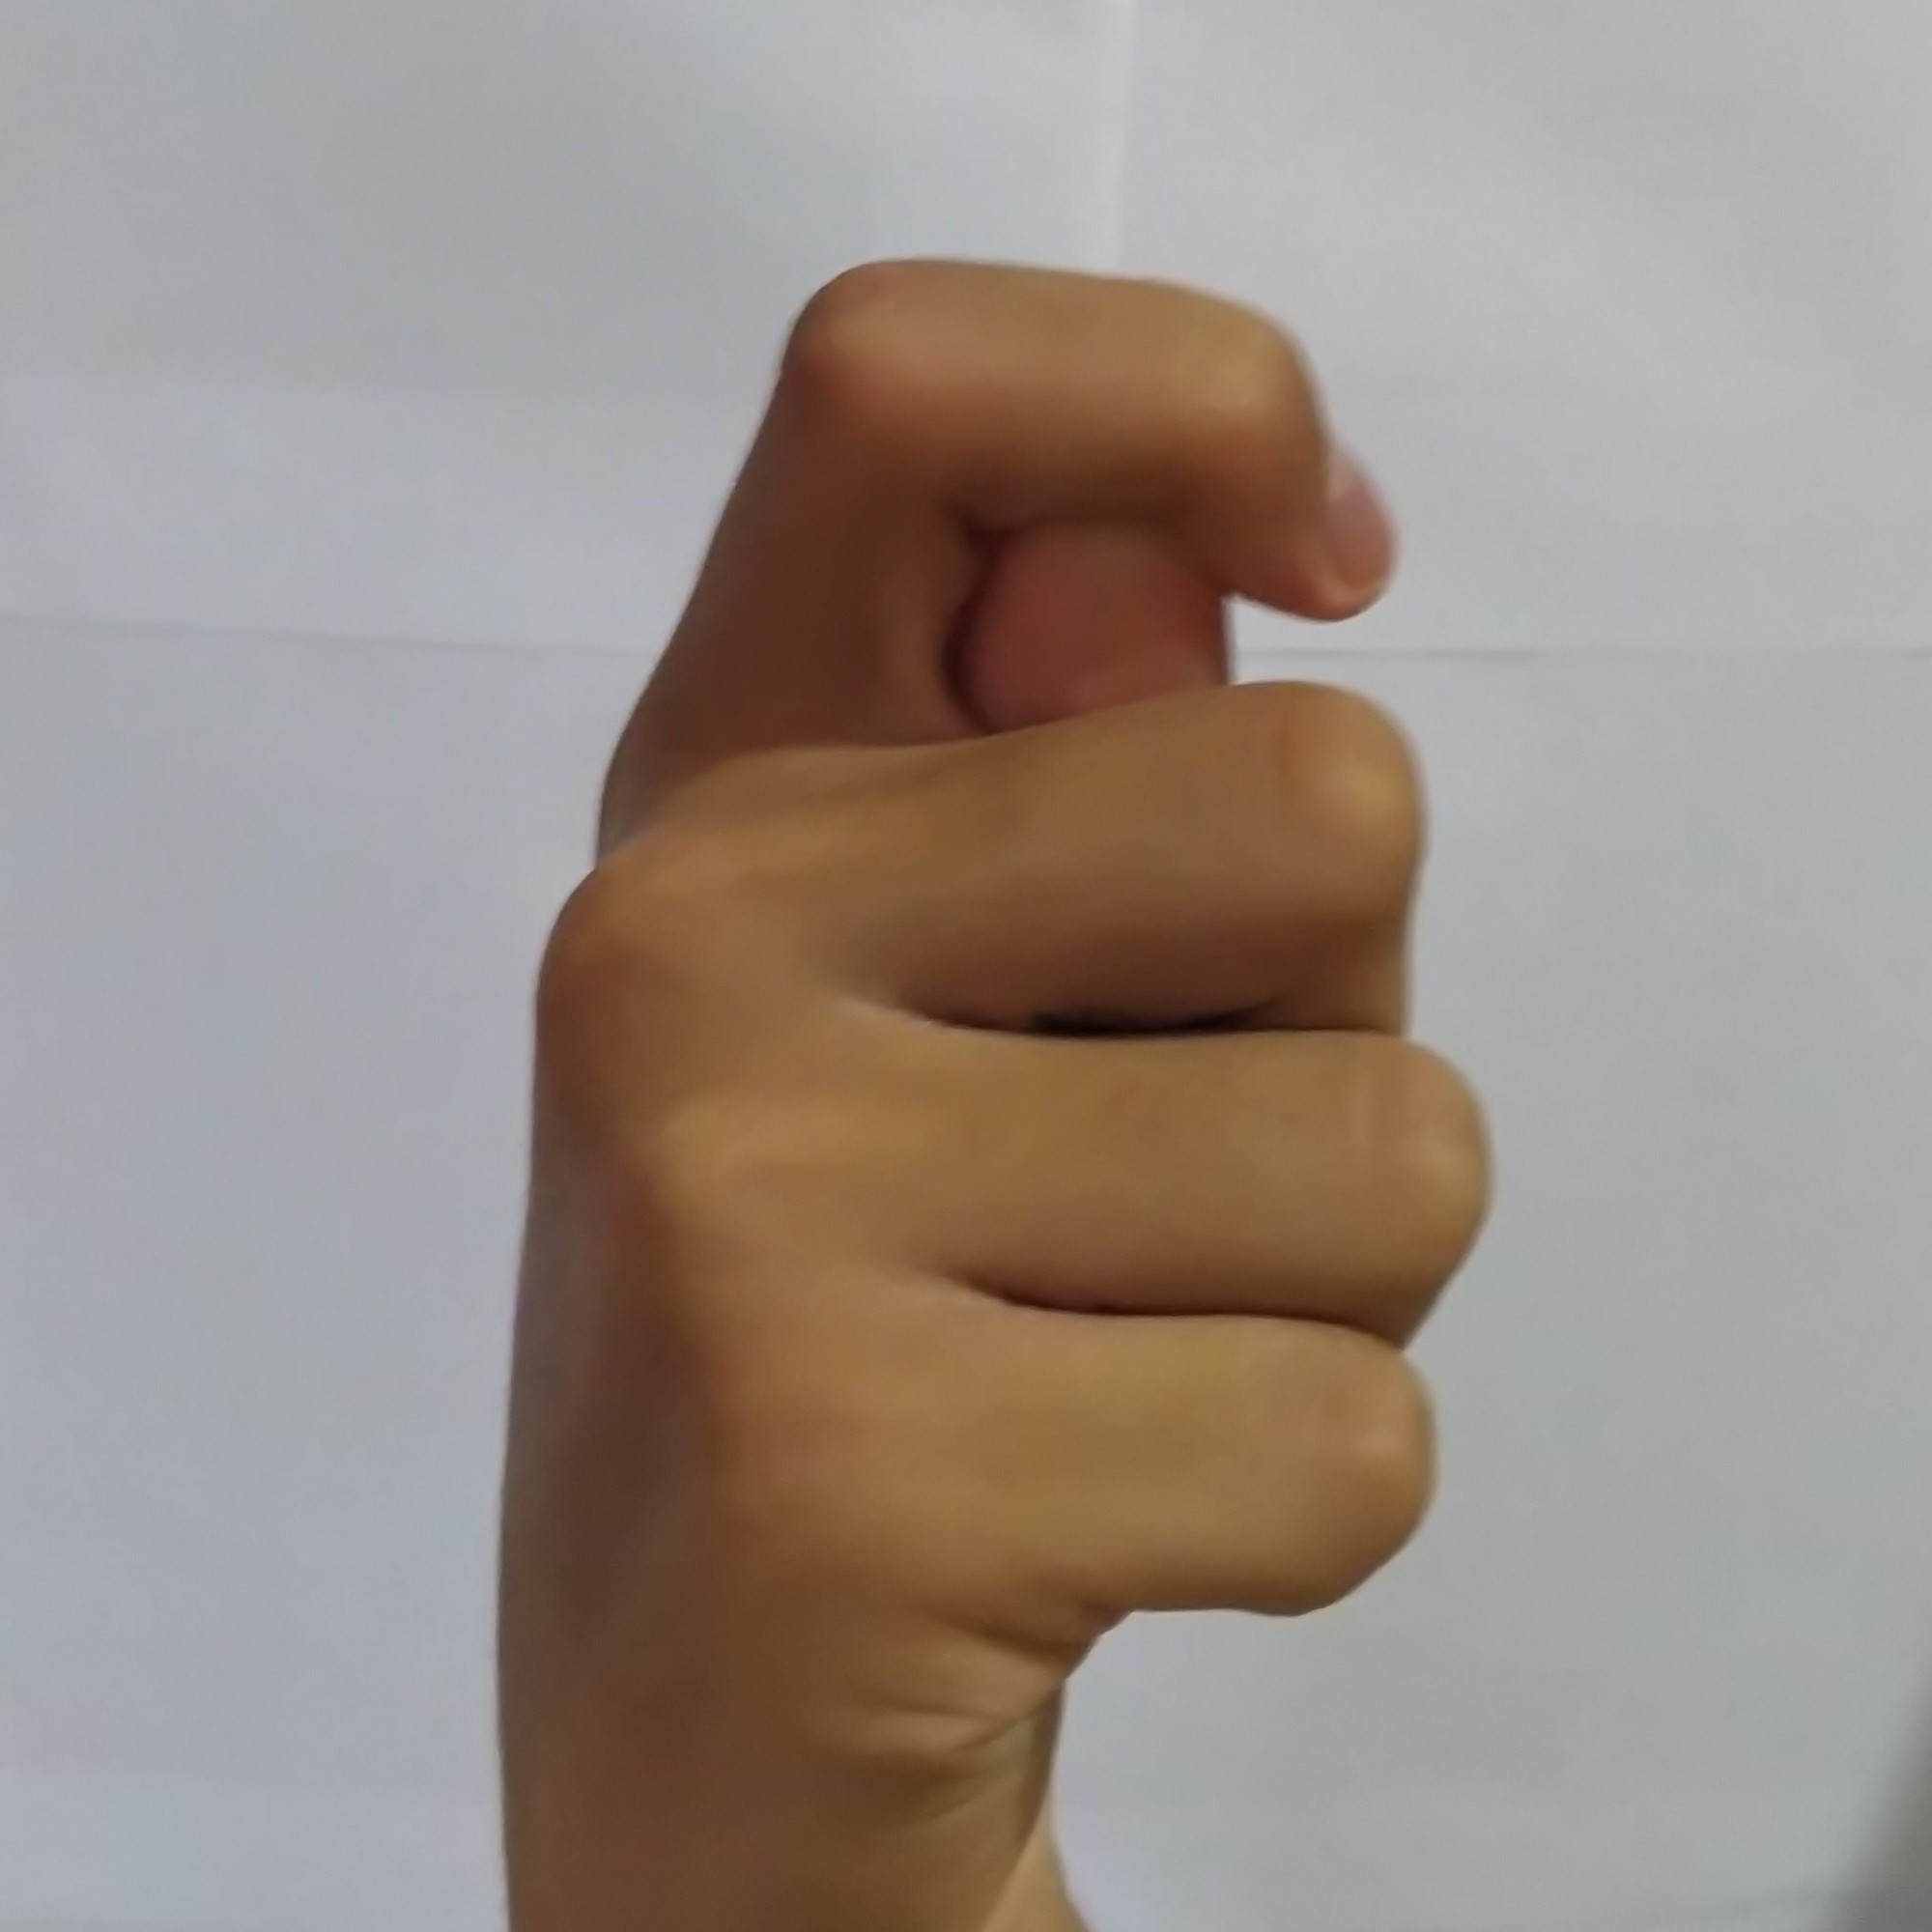T: (439, 228, 1518, 1932)
